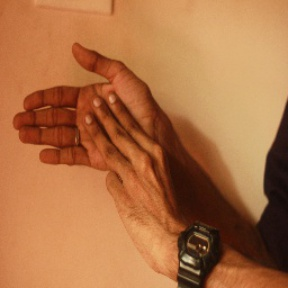M: (13, 40, 169, 196)
